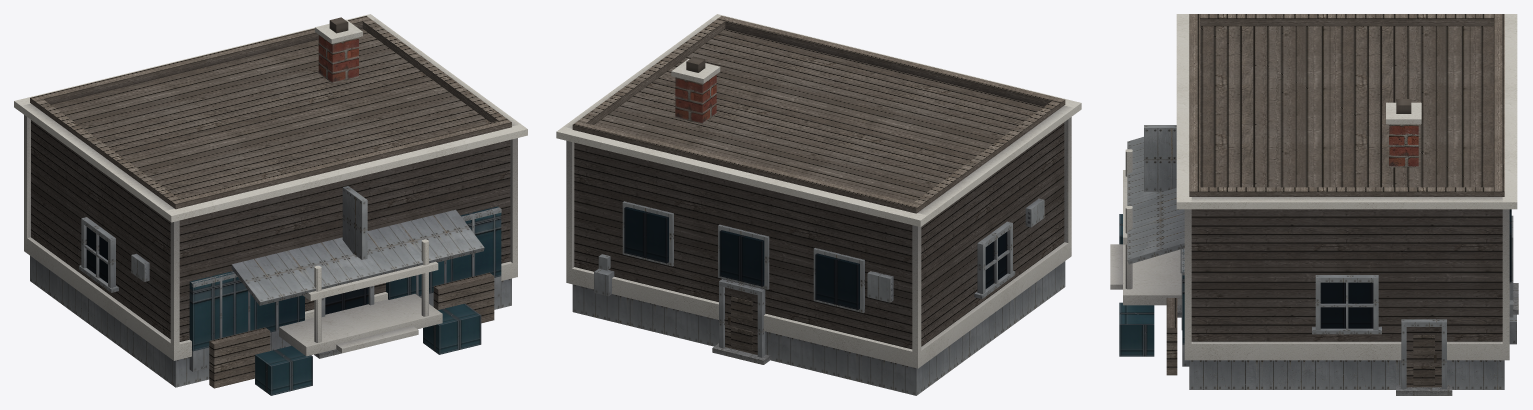
Rendered from anglers-bait-tackle_lod0.gltf.
The picture shows the model from 3 angles, left to right: view 1: azimuth 30°, elevation 25°; view 2: azimuth 150°, elevation 25°; view 3: azimuth 270°, elevation 25°; orthographic projection. The views are drawn at different scales.
Visible parts, largest first — view 1: anglers-bait-tackle_upper, anglers-bait-tackle__v4_stone_detail, anglers-bait-tackle__awning, anglers-bait-tackle_fen_07-glass-curtain-blue_1, anglers-bait-tackle_base, anglers-bait-tackle_fen_14-steel-panel_0, anglers-bait-tackle__parapet_back, anglers-bait-tackle__parapet_front, anglers-bait-tackle__rod_rack_a, anglers-bait-tackle__bait_tank_a, anglers-bait-tackle__parapet_right, anglers-bait-tackle__bait_tank_b (+5 smaller); view 2: anglers-bait-tackle_upper, anglers-bait-tackle__v4_stone_detail, anglers-bait-tackle_base, anglers-bait-tackle_fen_07-glass-curtain-blue_2_t, anglers-bait-tackle_fen_14-steel-panel_0, anglers-bait-tackle__parapet_front, anglers-bait-tackle__parapet_back, anglers-bait-tackle__parapet_right, anglers-bait-tackle__parapet_left, anglers-bait-tackle__v4_brick_detail, anglers-bait-tackle_fen_18-timber-siding_5, anglers-bait-tackle_fen_18-timber-siding_6_t (+1 smaller); view 3: anglers-bait-tackle_upper, anglers-bait-tackle__v4_stone_detail, anglers-bait-tackle_base, anglers-bait-tackle__awning, anglers-bait-tackle_fen_14-steel-panel_0, anglers-bait-tackle__parapet_left, anglers-bait-tackle__parapet_right, anglers-bait-tackle_fen_07-glass-curtain-blue_2_t, anglers-bait-tackle__blade_sign, anglers-bait-tackle__parapet_front, anglers-bait-tackle__parapet_back, anglers-bait-tackle__bait_tank_b (+5 smaller).
Part boxes in pixels (left/top/right/bottom): anglers-bait-tackle_upper: left=31, top=28, right=510, bottom=341; anglers-bait-tackle__v4_stone_detail: left=14, top=14, right=527, bottom=360; anglers-bait-tackle__awning: left=231, top=209, right=484, bottom=305; anglers-bait-tackle_fen_07-glass-curtain-blue_1: left=189, top=206, right=501, bottom=351; anglers-bait-tackle_base: left=30, top=256, right=511, bottom=387; anglers-bait-tackle_fen_14-steel-panel_0: left=79, top=207, right=501, bottom=371; anglers-bait-tackle__parapet_back: left=30, top=16, right=370, bottom=105; anglers-bait-tackle__parapet_front: left=170, top=119, right=511, bottom=209; anglers-bait-tackle__rod_rack_a: left=209, top=327, right=270, bottom=388; anglers-bait-tackle__bait_tank_a: left=255, top=346, right=312, bottom=395; anglers-bait-tackle__parapet_right: left=362, top=19, right=506, bottom=122; anglers-bait-tackle__bait_tank_b: left=423, top=303, right=481, bottom=354; anglers-bait-tackle_upper: left=574, top=29, right=1064, bottom=349; anglers-bait-tackle__v4_stone_detail: left=556, top=14, right=1081, bottom=368; anglers-bait-tackle_base: left=572, top=261, right=1065, bottom=395; anglers-bait-tackle_fen_07-glass-curtain-blue_2_t: left=624, top=207, right=1007, bottom=309; anglers-bait-tackle_fen_14-steel-panel_0: left=594, top=198, right=1044, bottom=357; anglers-bait-tackle__parapet_front: left=717, top=16, right=1065, bottom=107; anglers-bait-tackle__parapet_back: left=572, top=121, right=921, bottom=213; anglers-bait-tackle__parapet_right: left=578, top=19, right=725, bottom=124; anglers-bait-tackle__parapet_left: left=913, top=101, right=1060, bottom=209; anglers-bait-tackle__v4_brick_detail: left=675, top=74, right=716, bottom=124; anglers-bait-tackle_fen_18-timber-siding_5: left=725, top=287, right=757, bottom=354; anglers-bait-tackle_fen_18-timber-siding_6_t: left=731, top=296, right=752, bottom=351; anglers-bait-tackle_upper: left=1191, top=26, right=1502, bottom=341; anglers-bait-tackle__v4_stone_detail: left=1110, top=14, right=1517, bottom=360; anglers-bait-tackle_base: left=1189, top=360, right=1504, bottom=389; anglers-bait-tackle__awning: left=1127, top=137, right=1184, bottom=264; anglers-bait-tackle_fen_14-steel-panel_0: left=1180, top=215, right=1516, bottom=388; anglers-bait-tackle__parapet_left: left=1200, top=14, right=1494, bottom=26; anglers-bait-tackle__parapet_right: left=1200, top=187, right=1494, bottom=196; anglers-bait-tackle_fen_07-glass-curtain-blue_2_t: left=1320, top=209, right=1511, bottom=328; anglers-bait-tackle__blade_sign: left=1144, top=125, right=1176, bottom=191; anglers-bait-tackle__parapet_front: left=1189, top=14, right=1199, bottom=196; anglers-bait-tackle__parapet_back: left=1494, top=14, right=1504, bottom=196; anglers-bait-tackle__bait_tank_b: left=1119, top=302, right=1154, bottom=356.
Bounding box in the file's own units: 12.76 × 7.84 × 11.66.
